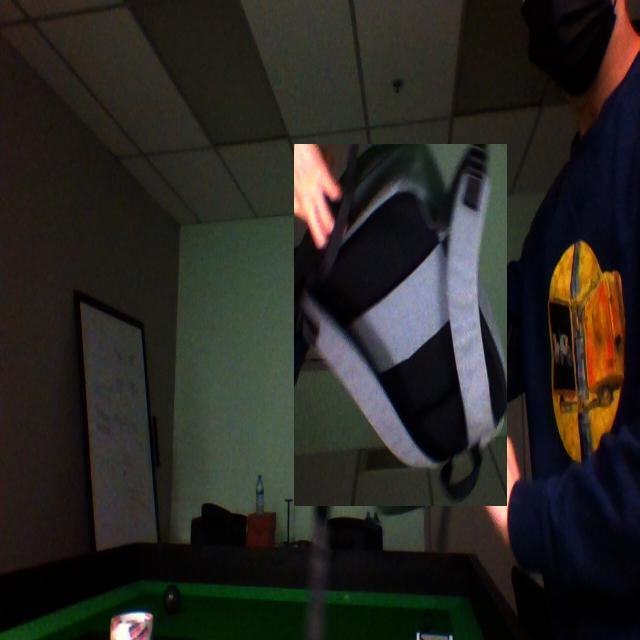Backpacks: (294, 144, 508, 507)
